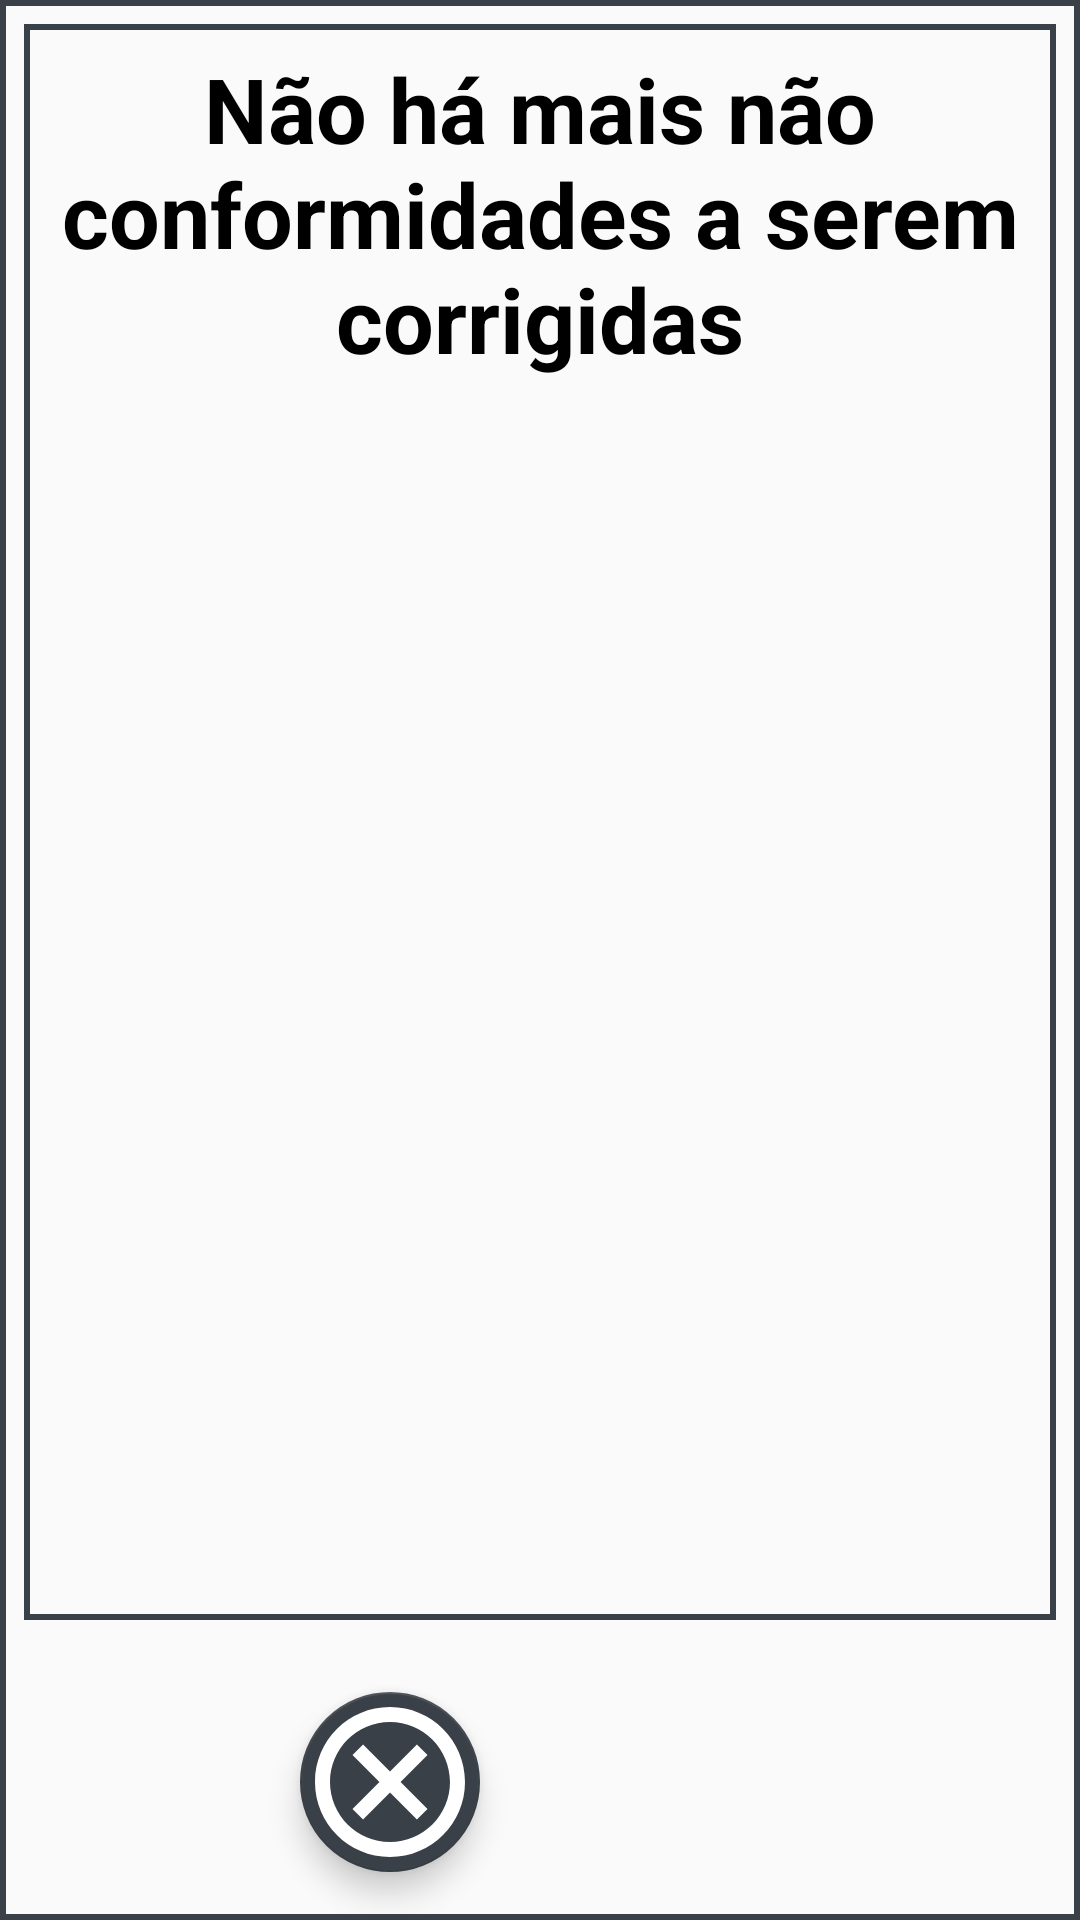

Icon click points for this 1080 × 1920 phone screenshot, format (x=x, y=y):
botao cancelar registros: (x=390, y=1782)
